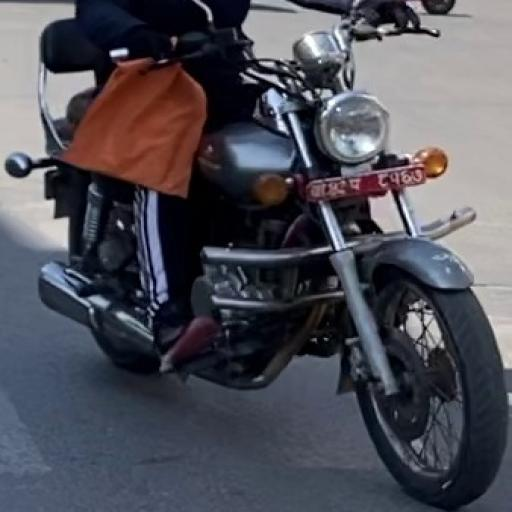license_plate: (303, 160, 429, 204)
